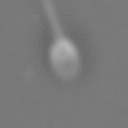normal: (31, 1, 65, 39)
